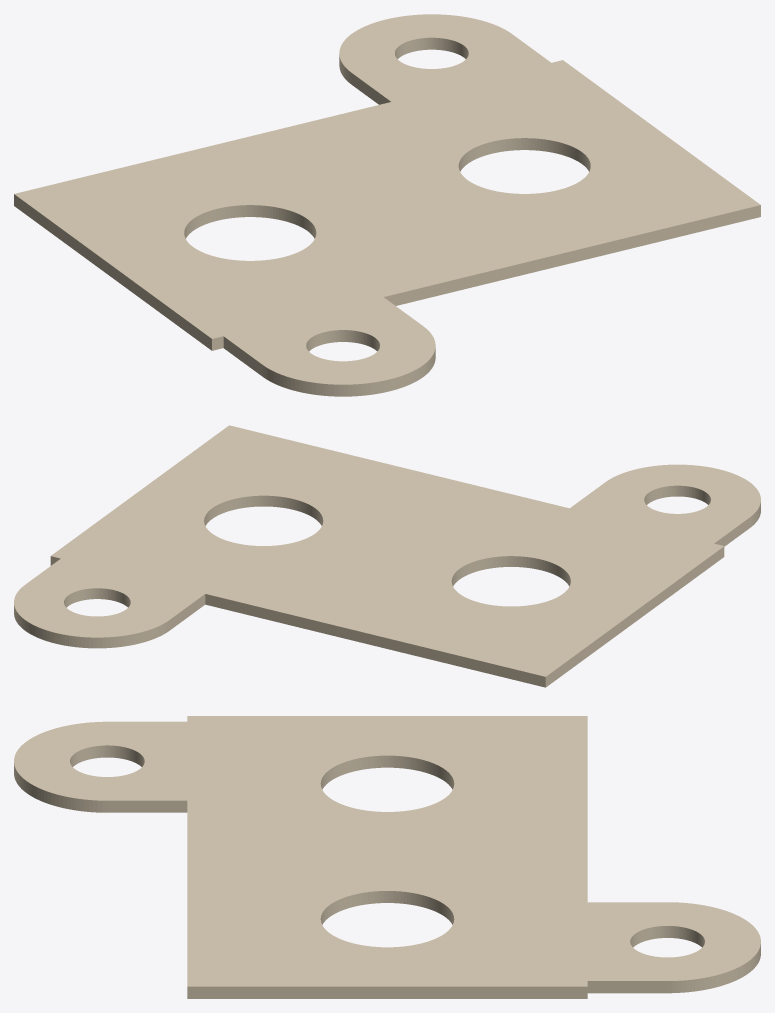
Rendered from iac-gasket.glb.
3 renders of one model, top to bottom at view 1: azimuth 30°, elevation 25°; view 2: azimuth 150°, elevation 25°; view 3: azimuth 270°, elevation 25°, orthographic. The views are drawn at different scales.
Visible parts, largest first — view 1: world; view 2: world; view 3: world.
Part boxes in pixels (box(x1,y1,x2,y2)): world: box(14, 14, 760, 396); world: box(14, 425, 760, 687); world: box(14, 716, 760, 998).
Size of the model in its own units: 0.048 by 0.001 by 0.056.
